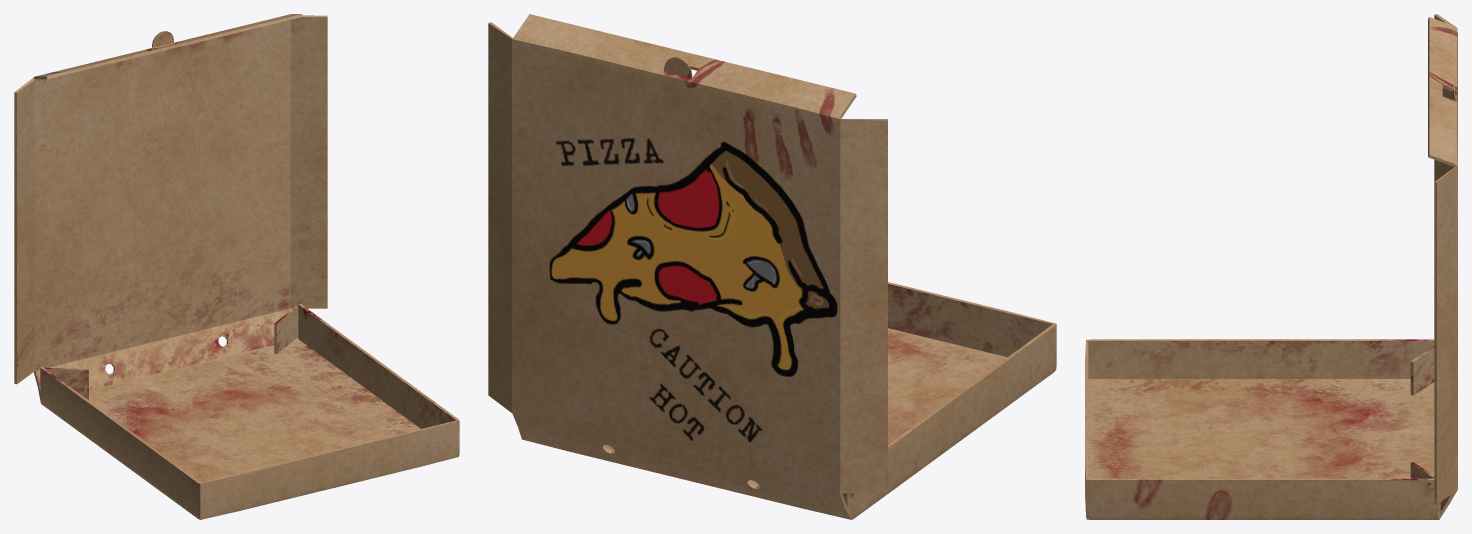
Rendered from pizza_box_empty_dirty_free.glb.
3 renders of one model, left to right at view 1: azimuth 30°, elevation 25°; view 2: azimuth 150°, elevation 25°; view 3: azimuth 270°, elevation 25°, orthographic. The views are drawn at different scales.
Parts seen in each view (by area): view 1: Plane; view 2: Plane; view 3: Plane.
Boxes of the visible parts, x1,y1,x2,y2 form: Plane: (14,14,459,519); Plane: (488,14,1056,519); Plane: (1085,14,1457,519).
Size of the model in its own units: 0.4703 by 0.4826 by 0.4394.
Materials: 1 (1 with a texture image).
